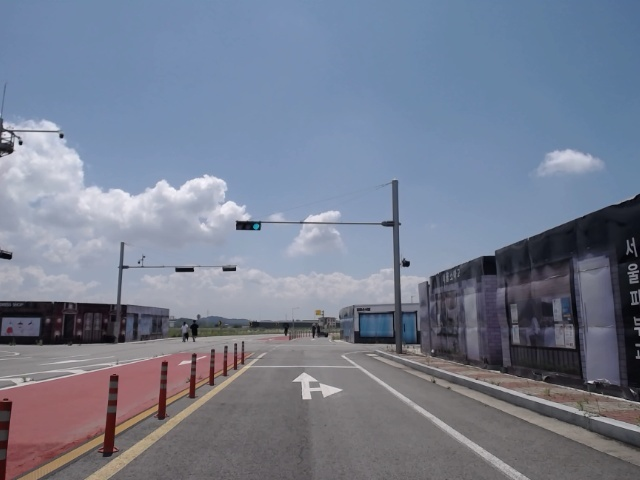green_3: (237, 221, 262, 230)
